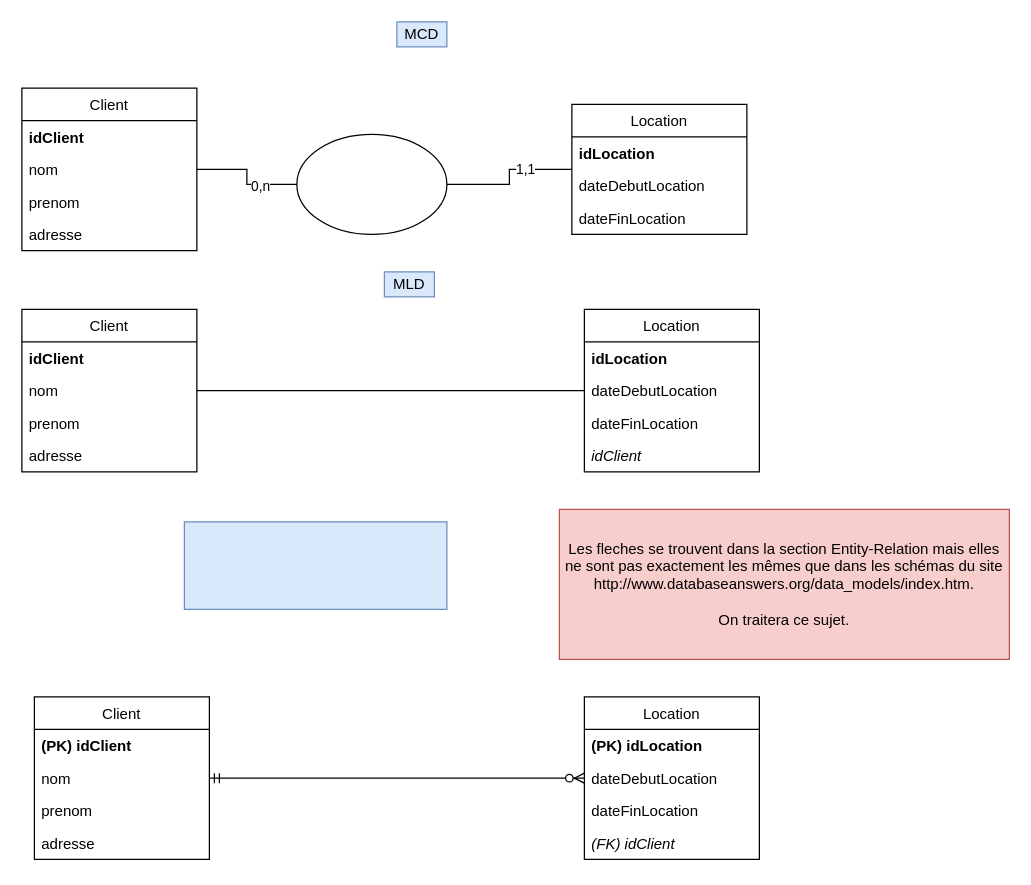
The diagram is 1031 pixels wide and 885 high, and some of its shapes have lost their labels. Here are the shapes that lost their labels. From the top down, the centre of each, then its label:
At point (371, 183): "fait".
At point (315, 565): "Crow's foot (les cardinalités sont positionées à l'envers que Merise)".
